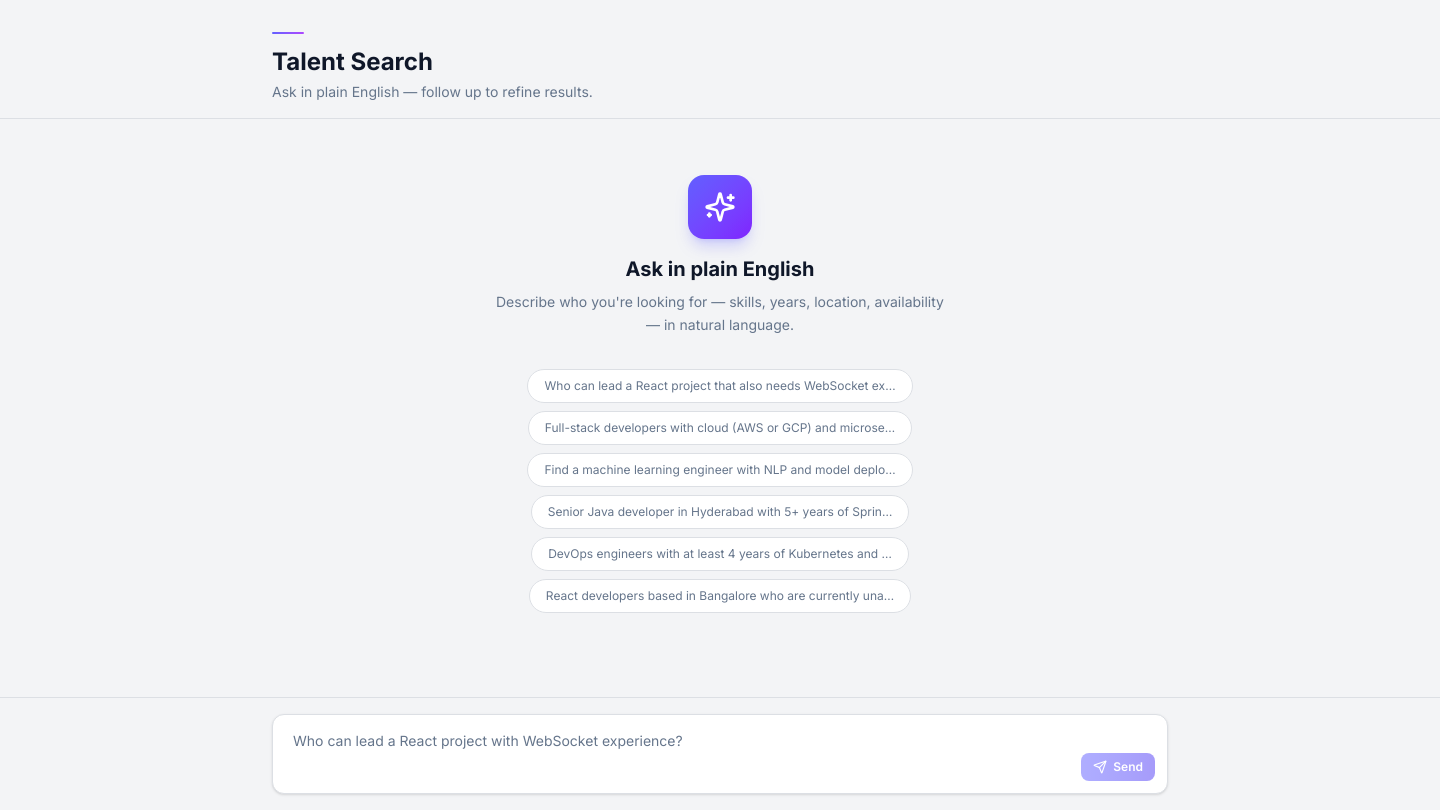
Test case: SearchPage › shows 'No matching candidates found' for empty results
Type "quantum computing" into the text box at [720, 751], box [273, 715, 1167, 787]
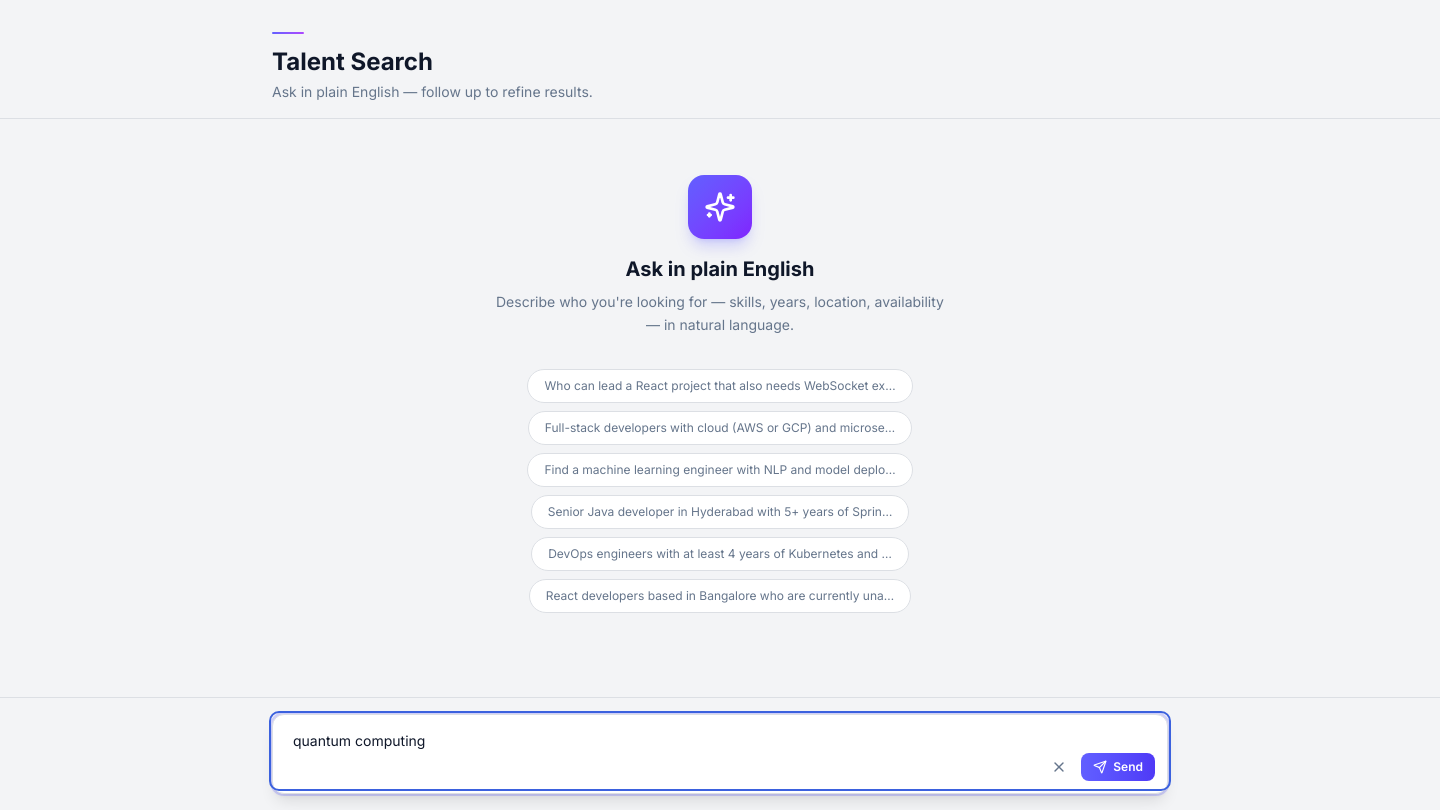
Click the button "Send" at [1118, 767], box [1081, 753, 1155, 781]
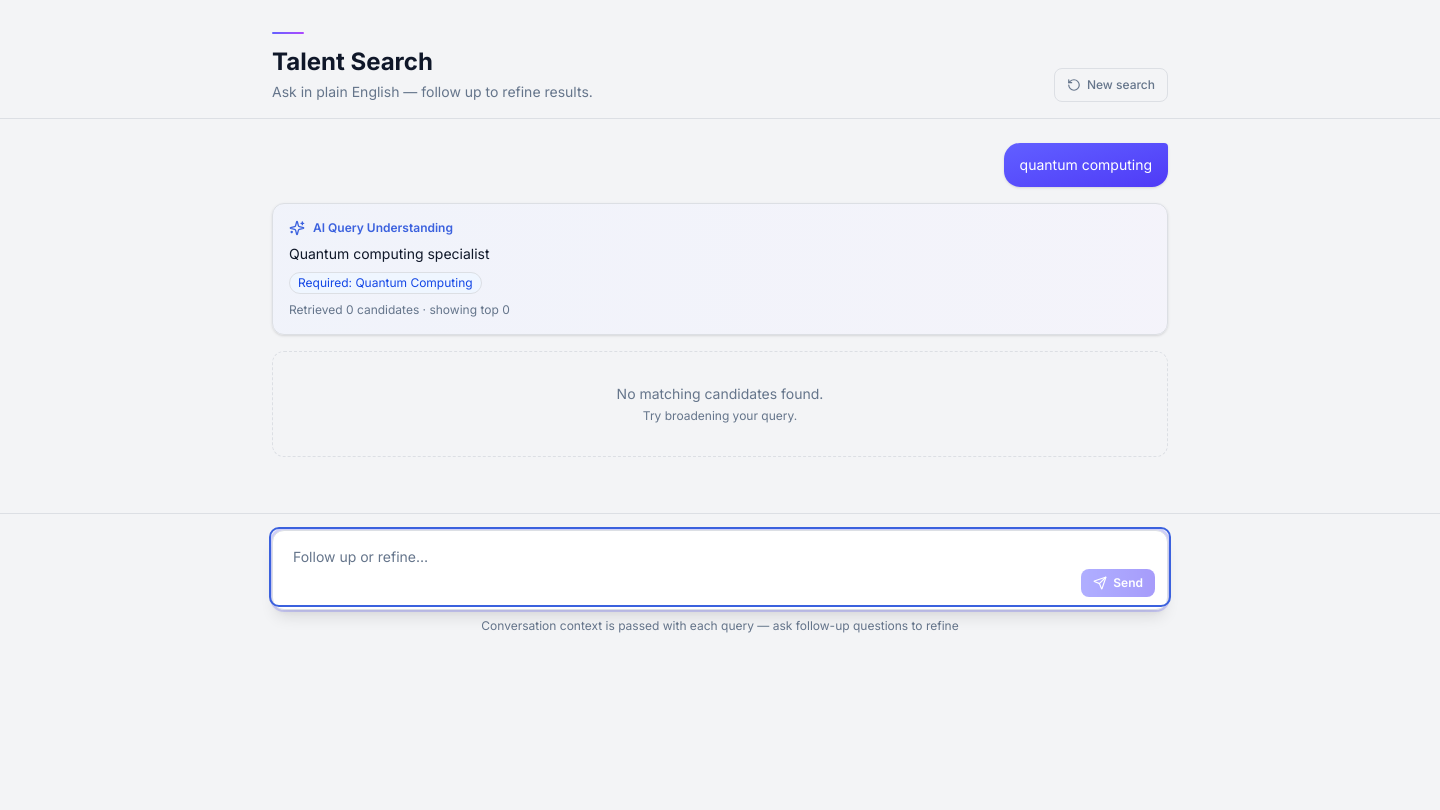
Now the text "No matching candidates found." is shown, box [617, 385, 823, 402]
